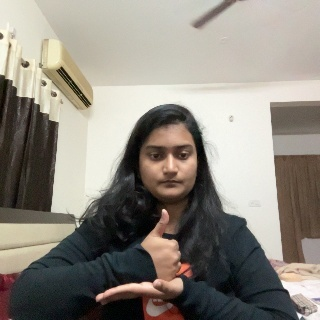Face: (139, 113, 199, 200)
Help: (115, 208, 206, 310)
